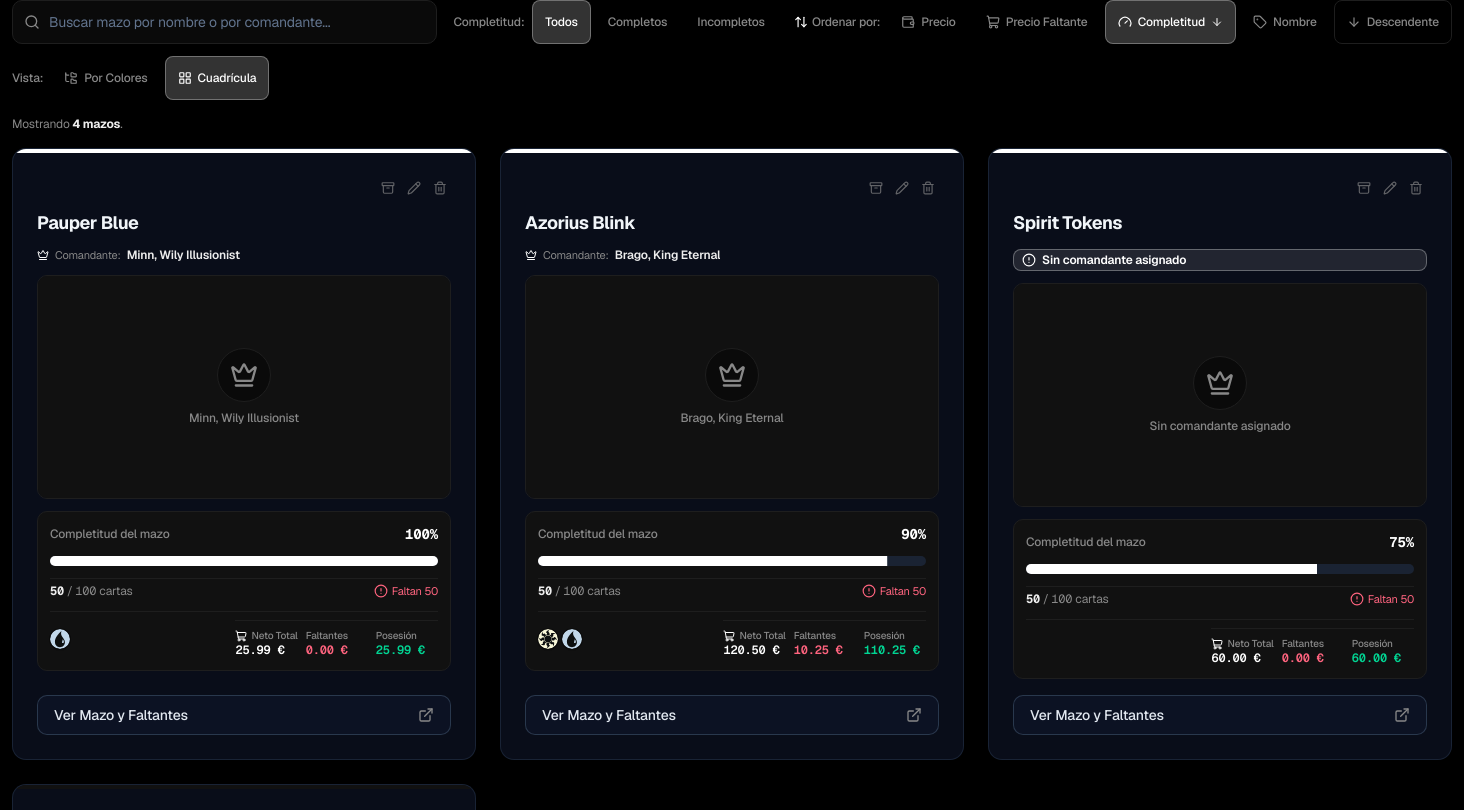
DeckListView › groups decks by color identity when 'Por Colores' is toggled
Click the button "Por Colores" at (106, 78), box [51,56,161,100]
(page scrolled)
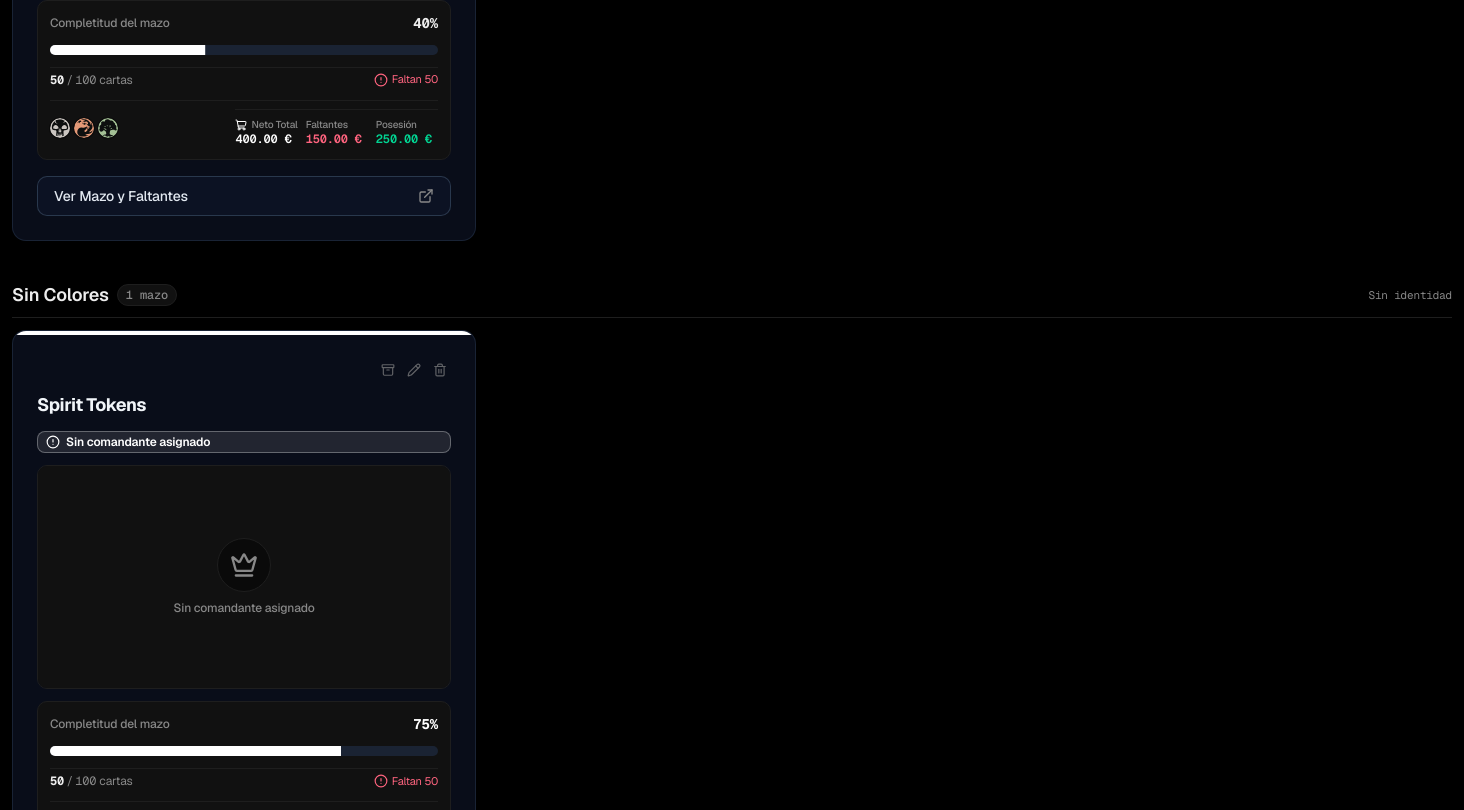
expect the heading "Spirit Tokens" is shown: met, box [37,393,146,416]
